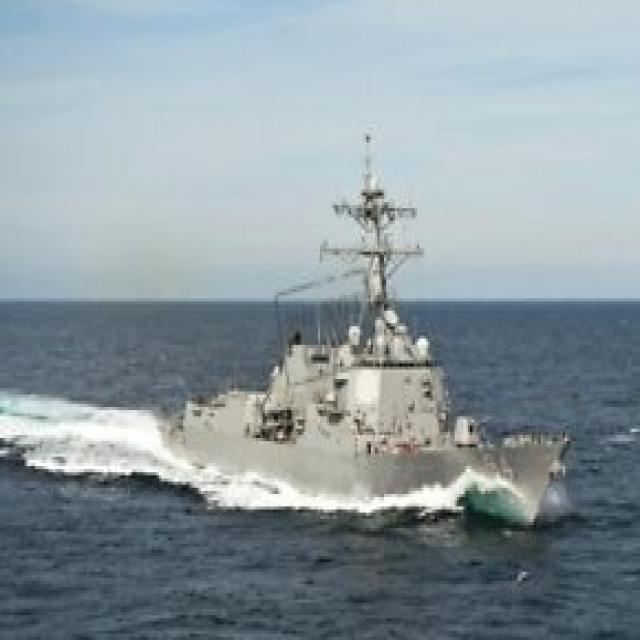navalvessels: (192, 154, 555, 535)
